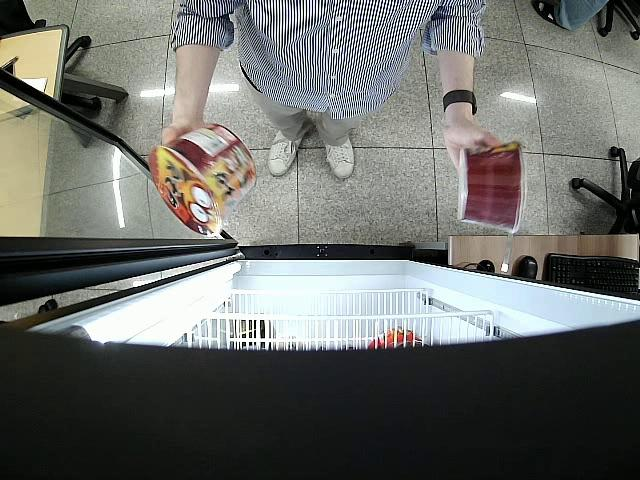00_hand: (446, 125, 504, 174), (161, 118, 210, 149)
05_nuguri_L: (149, 123, 255, 236), (460, 143, 528, 239)
